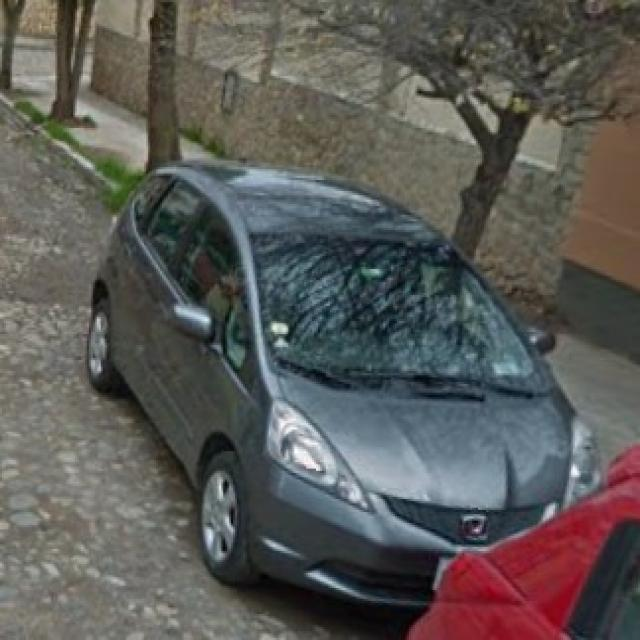cars: (90, 154, 598, 614)
